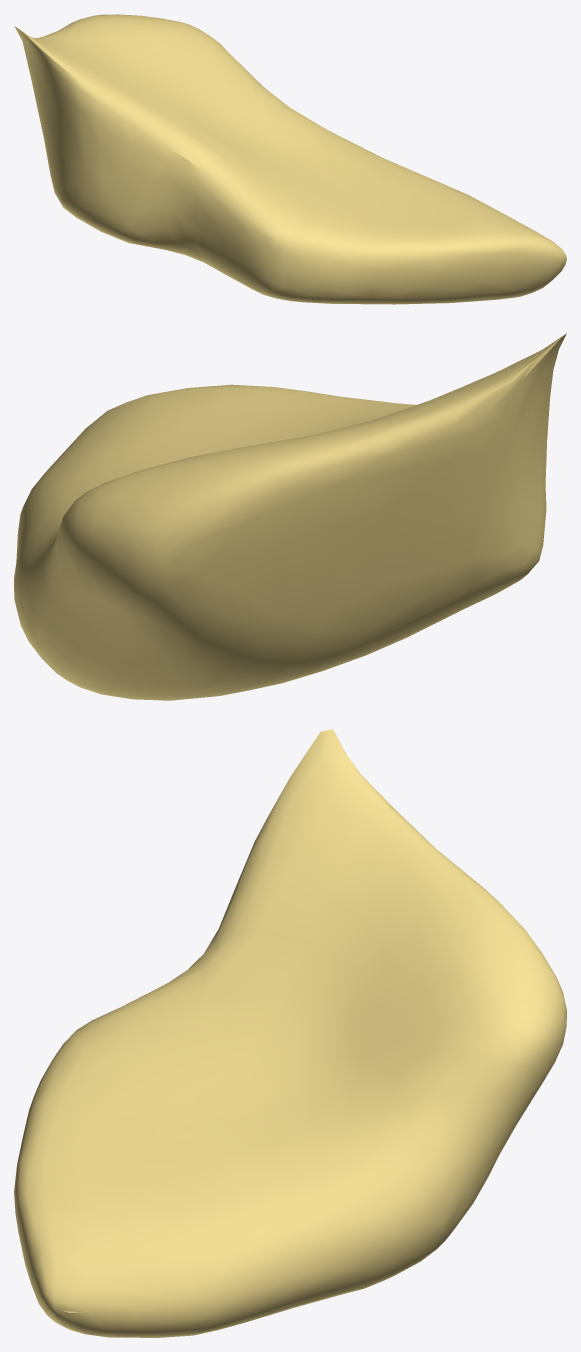
File: fma73081_mm2792m.glb
3 renders of one model, top to bottom at view 1: azimuth 30°, elevation 25°; view 2: azimuth 150°, elevation 25°; view 3: azimuth 270°, elevation 25°, orthographic. The views are drawn at different scales.
Parts seen in each view (by area): view 1: FMA73081_MM2792M; view 2: FMA73081_MM2792M; view 3: FMA73081_MM2792M.
Part boxes in pixels (x1,y1,x2,y2): FMA73081_MM2792M: [14, 14, 566, 304]; FMA73081_MM2792M: [14, 333, 566, 700]; FMA73081_MM2792M: [14, 729, 566, 1337].
Bounding box in the file's own units: 0.00939 × 0.00606 × 0.00832.
